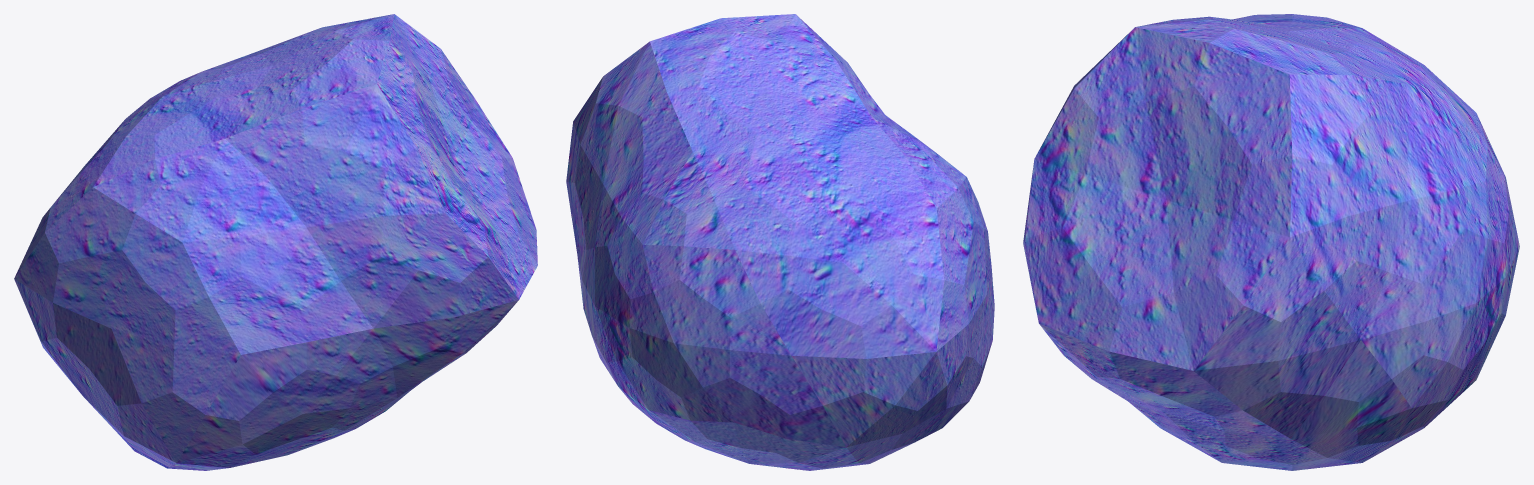
The model's file is bigasteroid12_LOD3.fbx.
The picture shows the model from 3 angles, left to right: view 1: azimuth 30°, elevation 25°; view 2: azimuth 150°, elevation 25°; view 3: azimuth 270°, elevation 25°; orthographic projection. The views are drawn at different scales.
Parts seen in each view (by area): view 1: Icosphere; view 2: Icosphere; view 3: Icosphere.
Part boxes in pixels (box(x1,y1,x2,y2)): Icosphere: box(14, 14, 537, 470); Icosphere: box(566, 14, 994, 470); Icosphere: box(1023, 14, 1519, 470).
Bounding box in the file's own units: 243 × 213 × 208.
